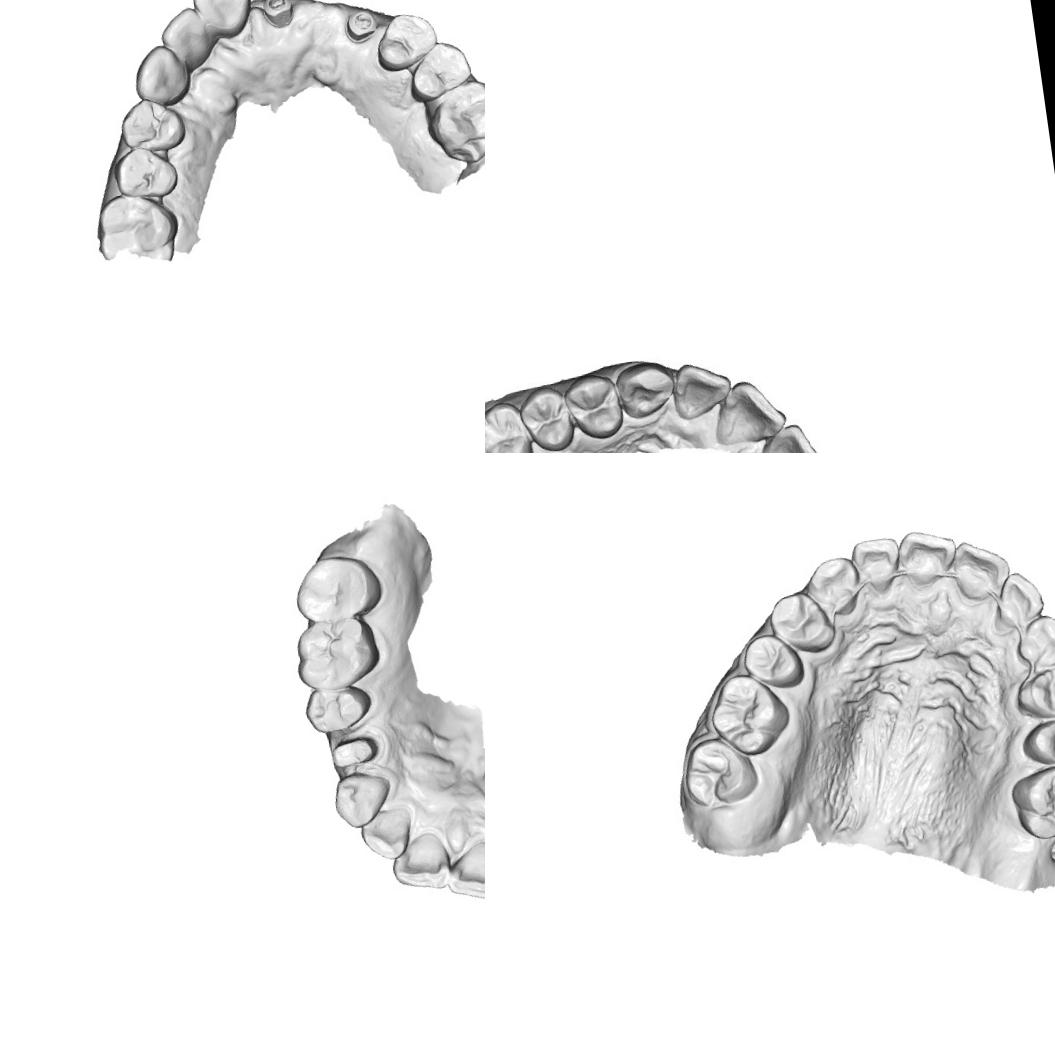canine: (128, 40, 194, 111), (330, 765, 397, 831), (613, 356, 679, 421), (802, 554, 864, 622), (1011, 610, 1055, 671)
crown: (327, 728, 389, 770)
implant: (342, 6, 381, 46), (259, 0, 298, 32)
incisor: (706, 374, 790, 450), (894, 524, 962, 594), (949, 534, 1015, 606), (387, 828, 455, 896), (668, 356, 738, 422), (989, 568, 1049, 633), (156, 3, 212, 69), (848, 534, 906, 596), (357, 806, 416, 864), (443, 836, 485, 907), (187, 0, 254, 38), (751, 419, 825, 453)
molar: (704, 667, 796, 762), (290, 613, 384, 696), (289, 550, 386, 628), (89, 187, 182, 264), (680, 732, 762, 810), (421, 76, 485, 169), (1006, 761, 1055, 844), (485, 397, 538, 453)
premolar: (764, 585, 840, 660), (562, 369, 629, 445), (404, 38, 476, 106), (371, 7, 442, 75), (115, 94, 188, 157), (110, 142, 182, 204), (739, 629, 807, 694), (302, 680, 376, 737), (517, 387, 578, 453), (1011, 663, 1055, 722), (1019, 715, 1055, 770)
